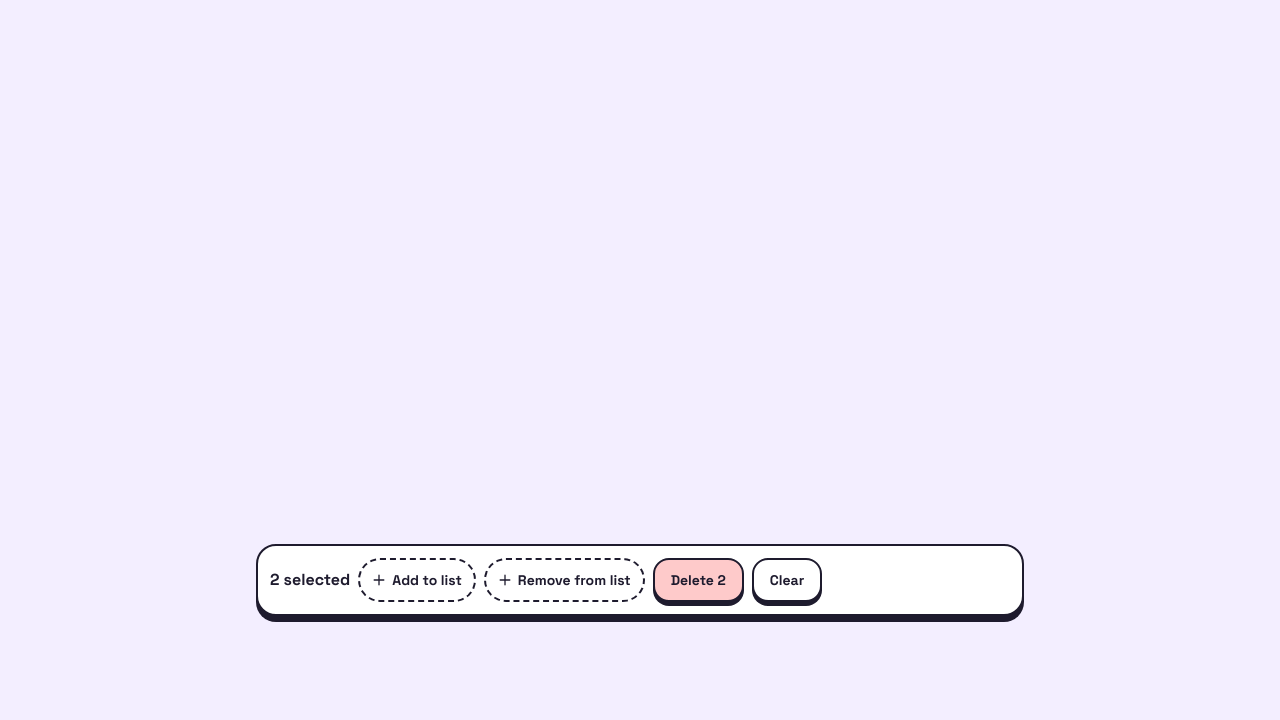
Scenario: SelectionBar › names a list created from the picker in the result
Click the button "Add to list": {"x": 417, "y": 580} [358,558,476,602]
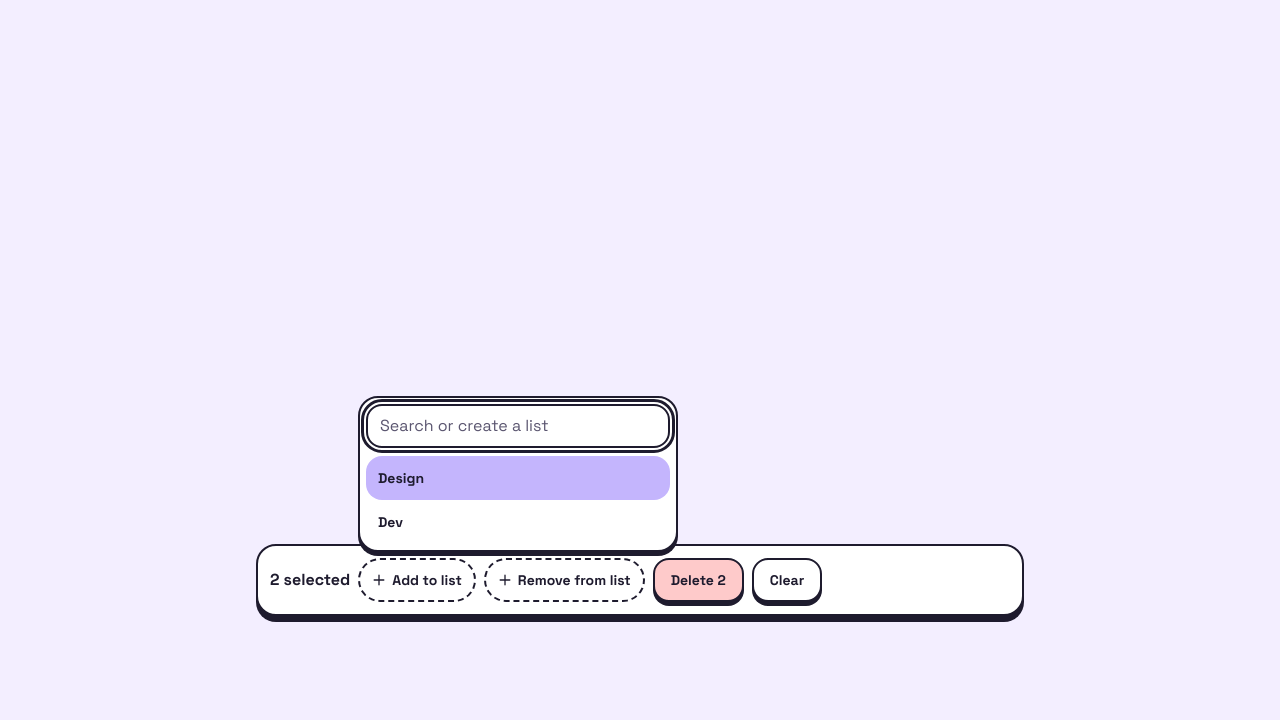
In the dropdown with placeholder "Search or create a list": {"x": 518, "y": 426} [366,404,670,448], type "Alumni"
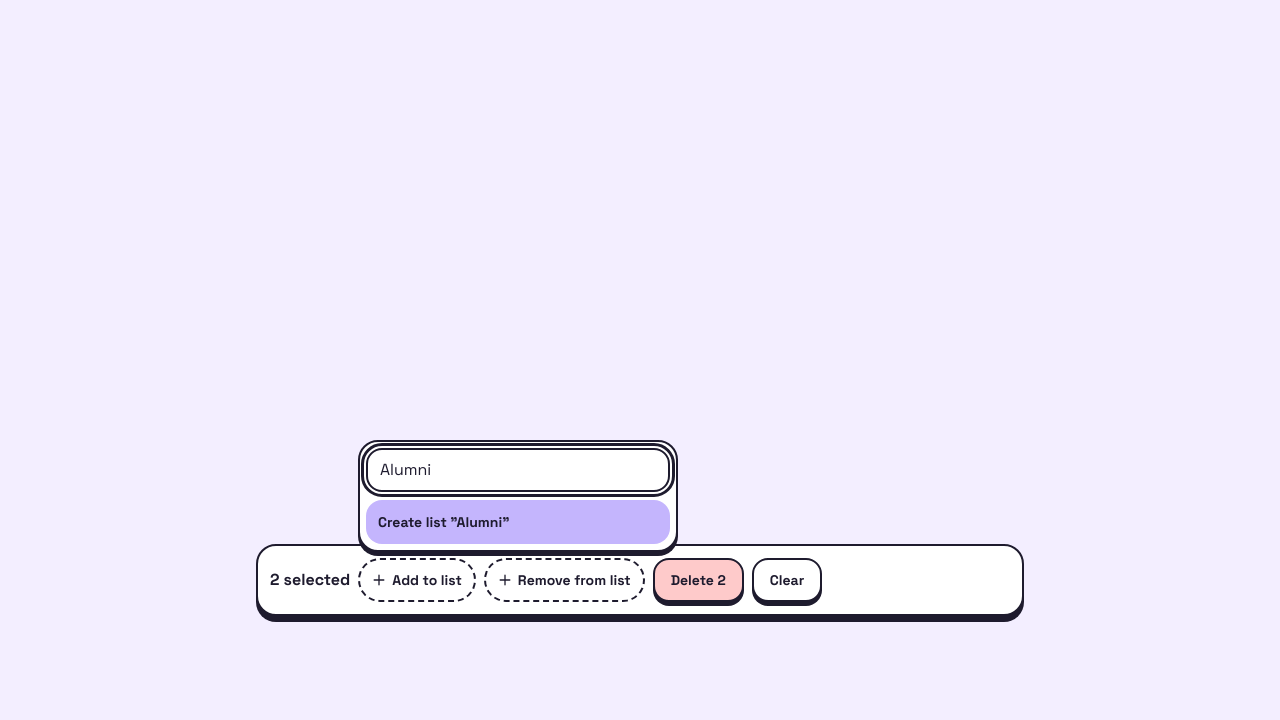
Click the option "Create list \"Alumni\"": {"x": 444, "y": 522} [366,500,670,544]
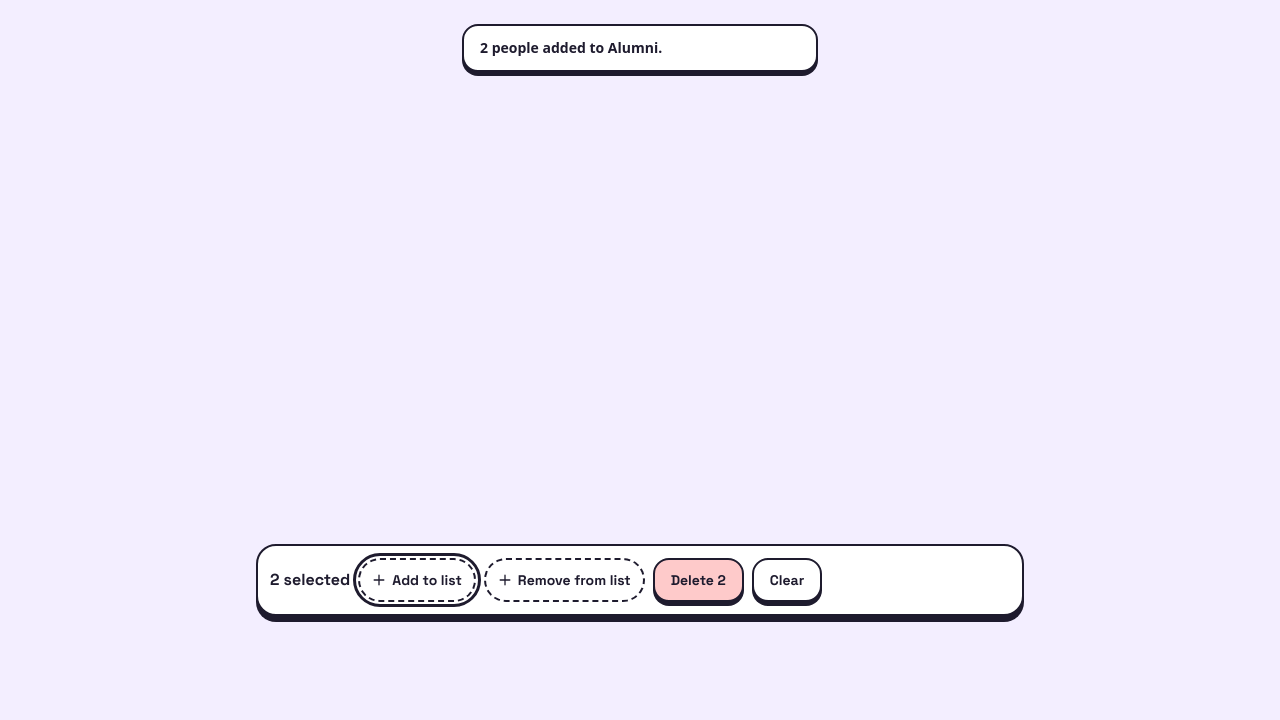
Check: the text "2 people added to Alumni." is shown, box [480,38,662,58]
